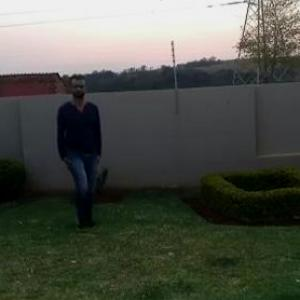follow: (55, 73, 106, 230)
